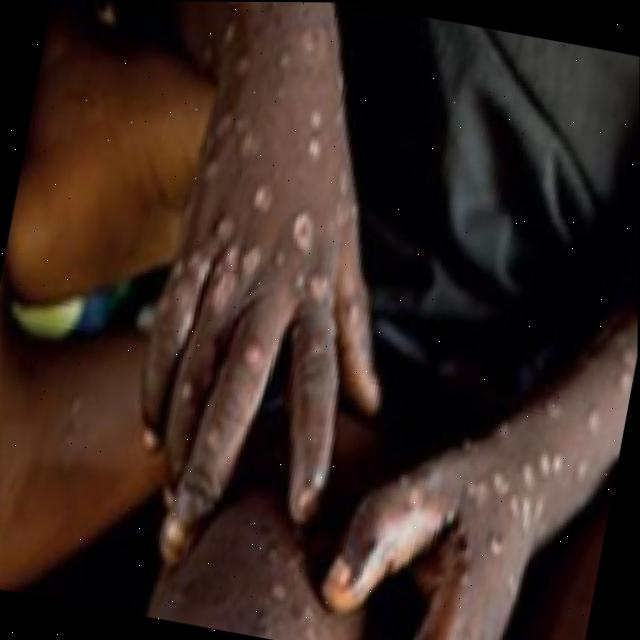Eczema: (101, 1, 406, 418), (441, 333, 636, 611)
